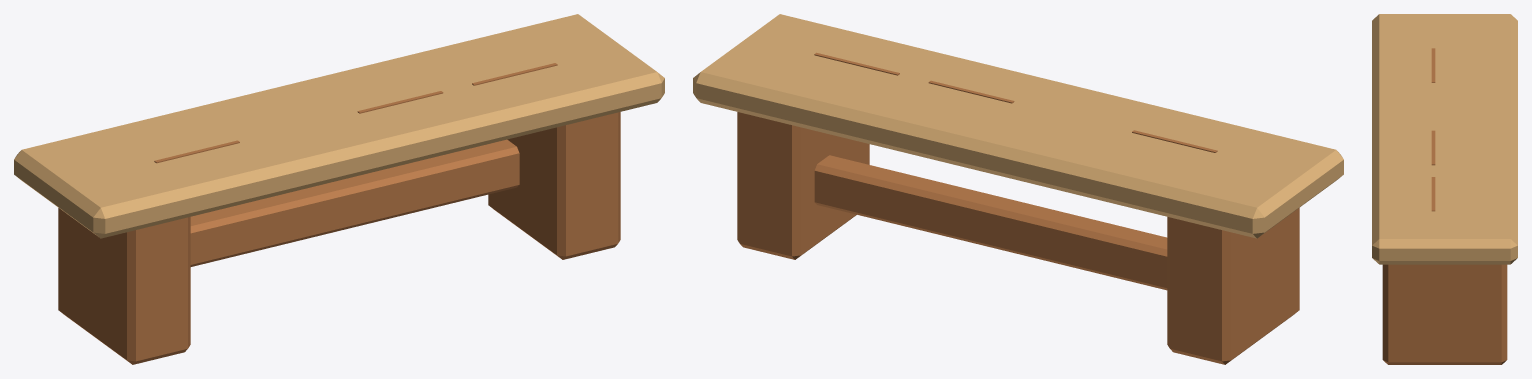
File: bench.glb
3 renders of one model, left to right at view 1: azimuth 30°, elevation 25°; view 2: azimuth 150°, elevation 25°; view 3: azimuth 270°, elevation 25°, orthographic. The views are drawn at different scales.
Parts seen in each view (by area): view 1: Assento.001, Travessa.002, Apoio de madeira, Apoio de madeira.001; view 2: Assento.001, Travessa.002, Apoio de madeira, Apoio de madeira.001; view 3: Assento.001, Apoio de madeira.001, Veio.001, Veio, Veio.002.
Part boxes in pixels (bbox=[...]): Assento.001: bbox=[14, 14, 664, 238]; Travessa.002: bbox=[190, 139, 519, 266]; Apoio de madeira: bbox=[58, 208, 190, 364]; Apoio de madeira.001: bbox=[488, 112, 620, 259]; Assento.001: bbox=[693, 14, 1343, 238]; Travessa.002: bbox=[814, 155, 1167, 290]; Apoio de madeira: bbox=[1167, 208, 1299, 364]; Apoio de madeira.001: bbox=[737, 112, 869, 259]; Assento.001: bbox=[1372, 14, 1517, 264]; Apoio de madeira.001: bbox=[1382, 264, 1507, 364]; Veio.001: bbox=[1431, 130, 1435, 165]; Veio: bbox=[1431, 48, 1435, 82]; Veio.002: bbox=[1431, 177, 1435, 211].
Size of the model in its own units: 1.8 by 0.515 by 0.48.
